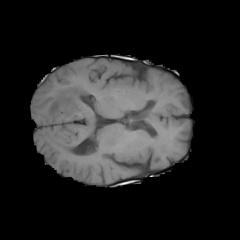glioma: (47, 83, 92, 118)
